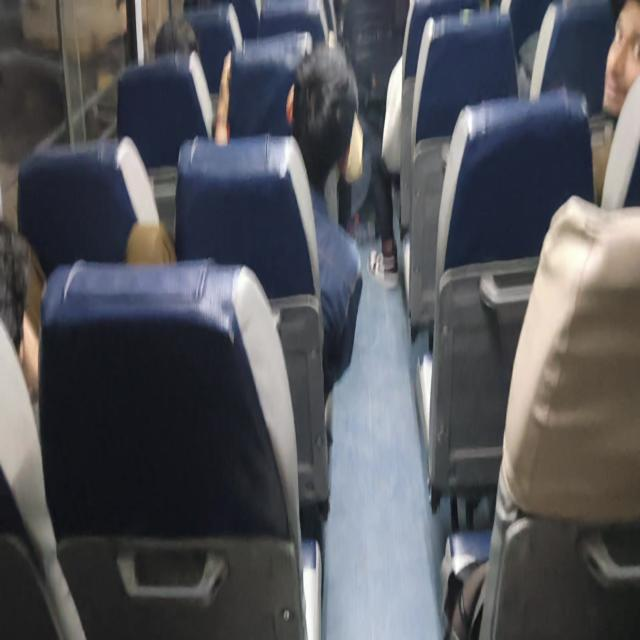person: (272, 48, 366, 180), (594, 12, 640, 104), (152, 13, 204, 74)
